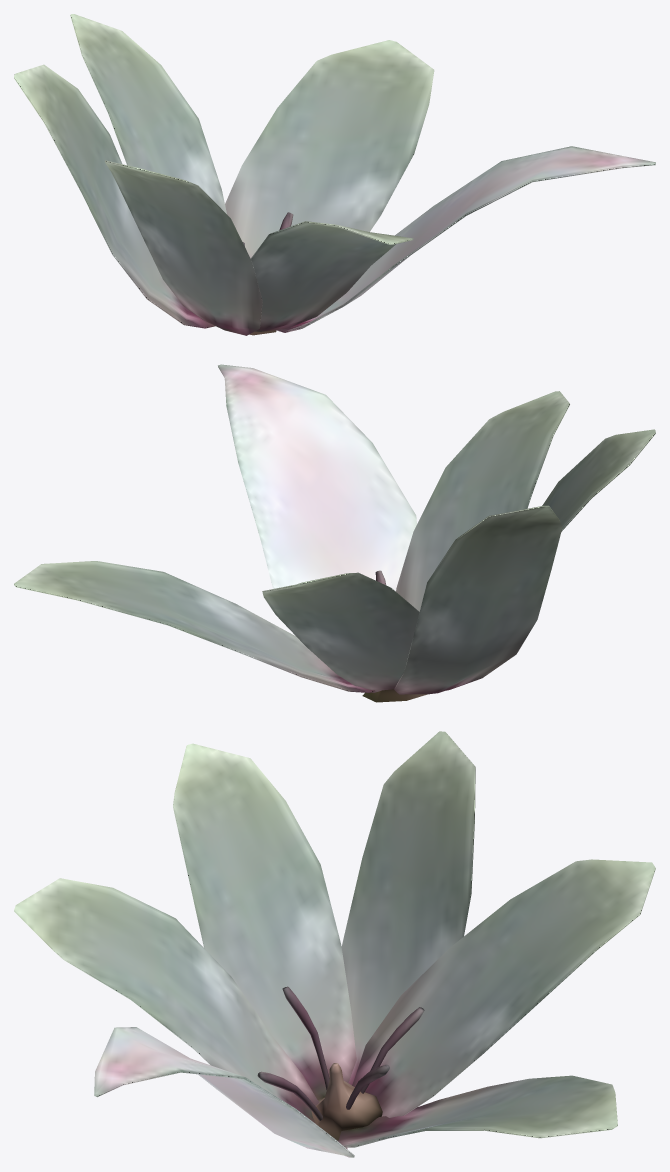
File: star_flower_white.glb
3 views of the same model, one above another, from view 1: azimuth 30°, elevation 25°; view 2: azimuth 150°, elevation 25°; view 3: azimuth 270°, elevation 25° (orthographic). The views are drawn at different scales.
Visible parts, largest first — view 1: star_flower_white; view 2: star_flower_white; view 3: star_flower_white.
Boxes of the visible parts, x1,y1,x2,y2 form: star_flower_white: (14,14,655,335); star_flower_white: (14,364,655,702); star_flower_white: (14,731,655,1157).
Bounding box in the file's own units: 0.126 × 0.0661 × 0.1296.
Materials: 1 (1 with a texture image).
